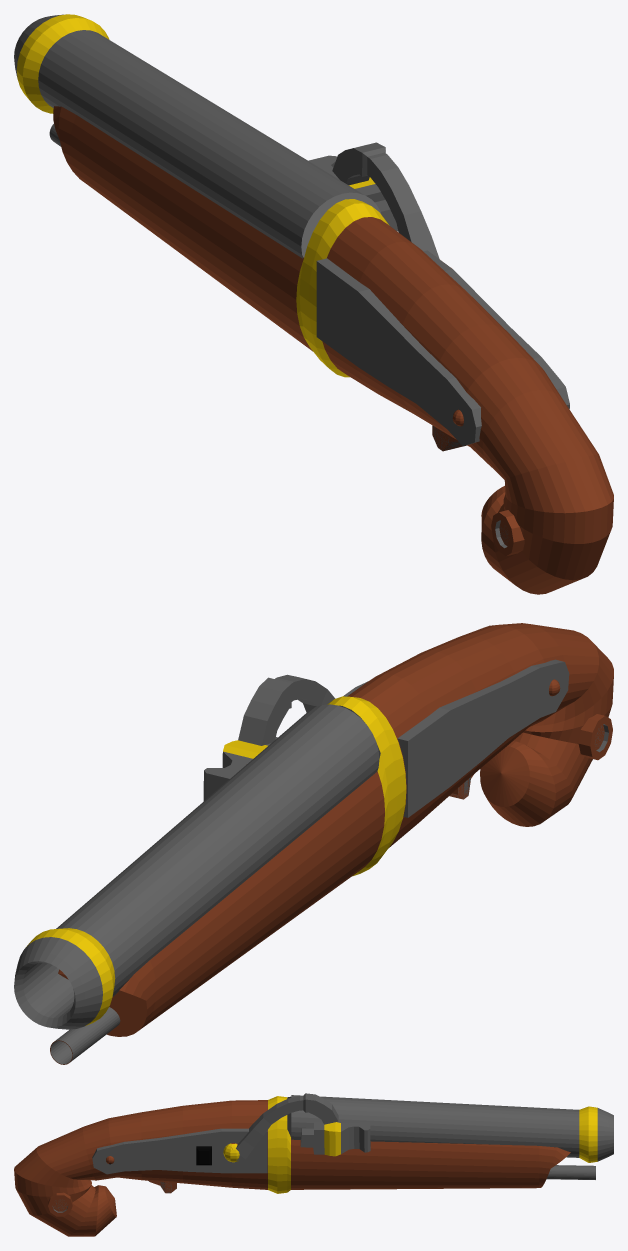
The model's file is Pistolet.fbx.
The picture shows the model from 3 angles, top to bottom: view 1: azimuth 30°, elevation 25°; view 2: azimuth 150°, elevation 25°; view 3: azimuth 270°, elevation 25°; orthographic projection. The views are drawn at different scales.
Visible parts, largest first — view 1: Pistolet; view 2: Pistolet; view 3: Pistolet.
Boxes of the visible parts, x1,y1,x2,y2 form: Pistolet: (14,14,613,594); Pistolet: (14,623,613,1064); Pistolet: (14,1093,613,1236).
Bounding box in the file's own units: 64.07 × 133 × 483.
